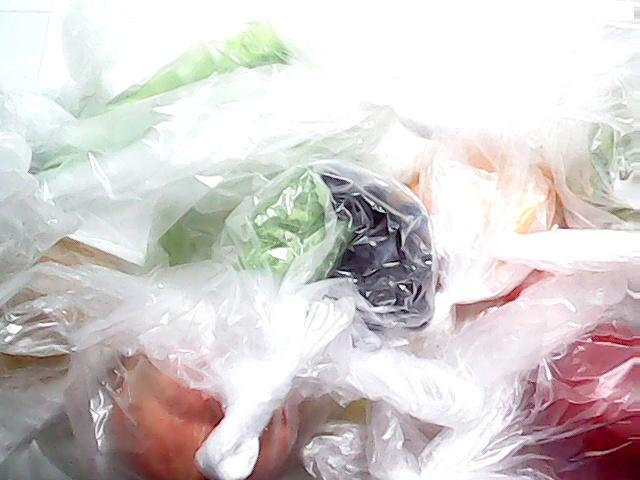apple: (468, 310, 640, 480)
cabbage: (540, 57, 640, 239)
grape: (312, 171, 443, 329)
lemon: (429, 130, 563, 302)
peach: (105, 334, 302, 480)
pepper: (28, 16, 292, 180)
potato: (1, 206, 134, 372)
